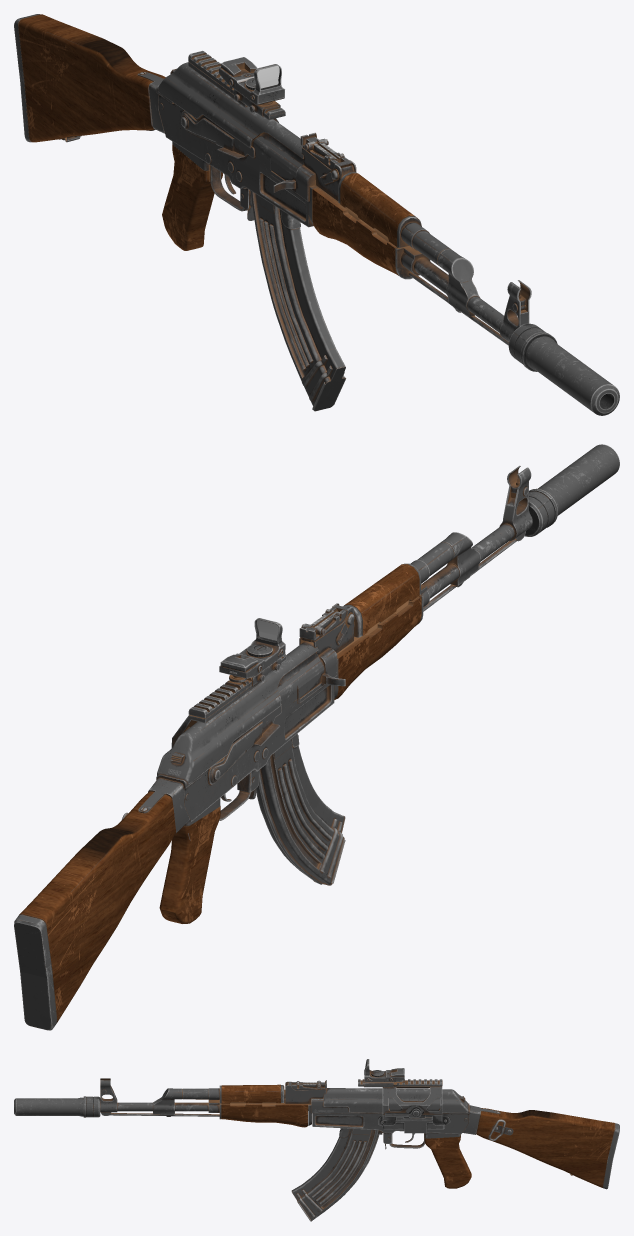
3 renders of one model, top to bottom at view 1: azimuth 30°, elevation 25°; view 2: azimuth 150°, elevation 25°; view 3: azimuth 270°, elevation 25°, orthographic. The views are drawn at different scales.
Parts seen in each view (by area): view 1: AK47, Magazine, Supressor, RedDot Scope, AttachmentHolder; view 2: AK47, Magazine, Supressor, RedDot Scope, AttachmentHolder; view 3: AK47, Magazine, AttachmentHolder, Supressor, RedDot Scope.
Part boxes in pixels (x1,y1,x2,y2): AK47: [14, 14, 531, 345]; Magazine: [250, 191, 346, 411]; Supressor: [508, 323, 619, 415]; RedDot Scope: [219, 57, 284, 117]; AttachmentHolder: [188, 50, 285, 122]; AK47: [14, 465, 532, 1030]; Magazine: [256, 734, 345, 885]; Supressor: [525, 444, 619, 536]; RedDot Scope: [219, 618, 285, 686]; AttachmentHolder: [171, 654, 286, 747]; AK47: [100, 1078, 619, 1189]; Magazine: [291, 1128, 379, 1221]; AttachmentHolder: [358, 1079, 450, 1133]; Supressor: [14, 1096, 100, 1117]; RedDot Scope: [364, 1059, 404, 1087].
Size of the model in its own units: 0.0715 by 0.2904 by 1.01.
